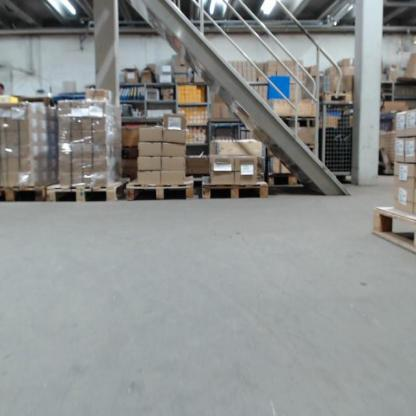pallet: (374, 205, 416, 256), (46, 177, 129, 202), (127, 174, 194, 199), (200, 175, 268, 197), (0, 184, 46, 203), (266, 173, 302, 185)
stillage: (318, 101, 360, 178)
